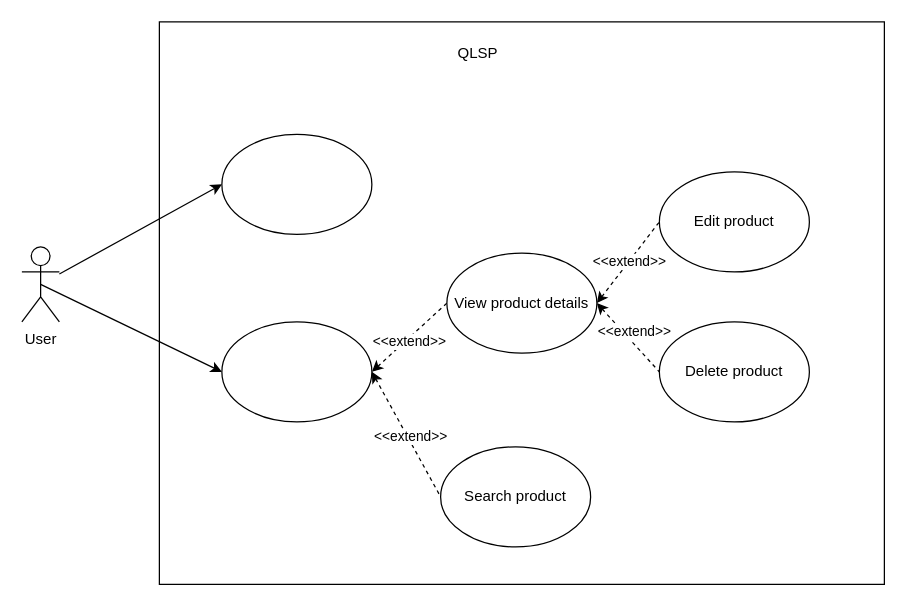
This 906x606 diagram has some shape labels left out. Each missing label, with the box of its shape:
Create Product: (221, 133, 372, 234)
View all products: (221, 321, 372, 422)
